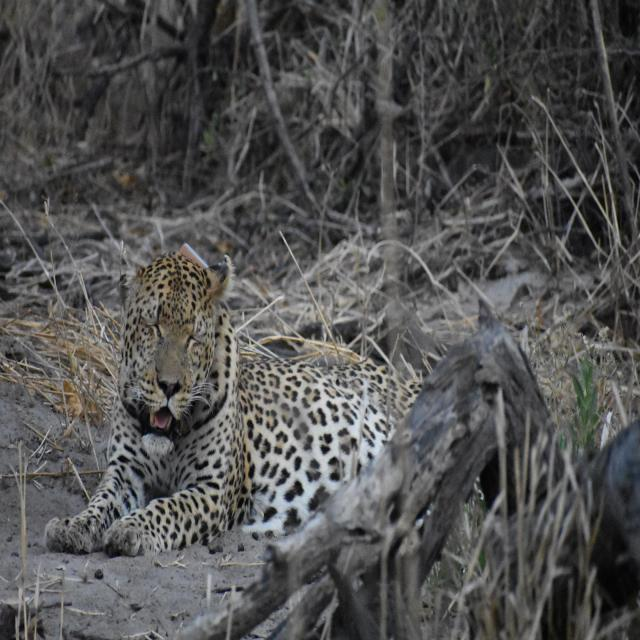Leopard: (63, 244, 486, 566)
